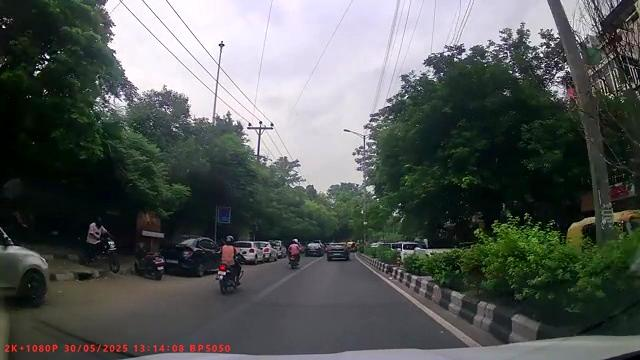motorcycle_with_helmet: (216, 234, 244, 295)
